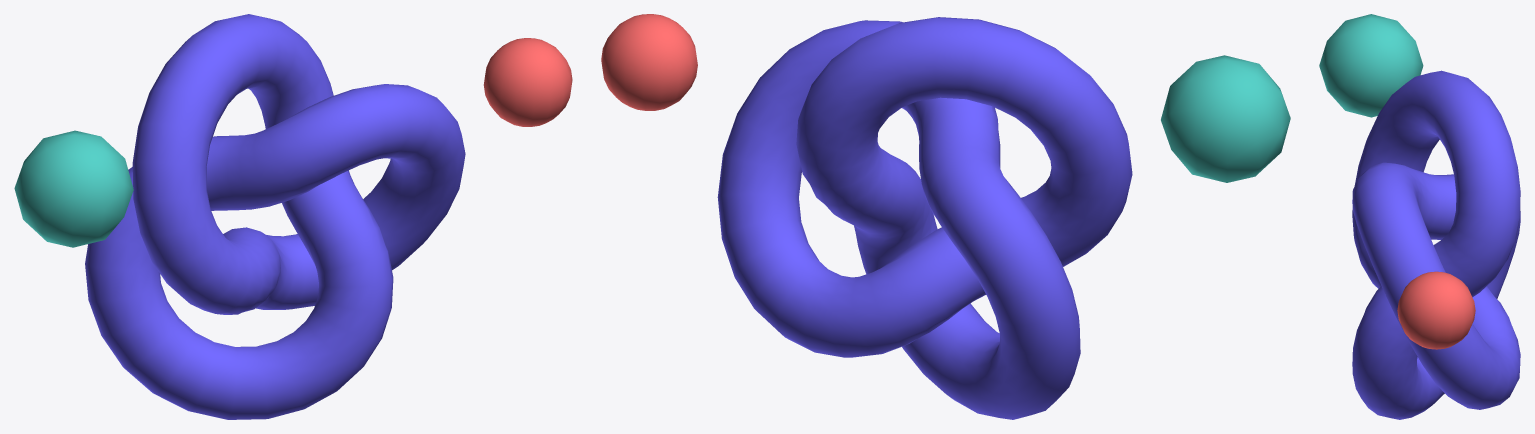
3 views of the same model, side by side, from view 1: azimuth 30°, elevation 25°; view 2: azimuth 150°, elevation 25°; view 3: azimuth 270°, elevation 25° (orthographic). The views are drawn at different scales.
Size of the model in its own units: 4.5 by 2.74 by 1.55.
